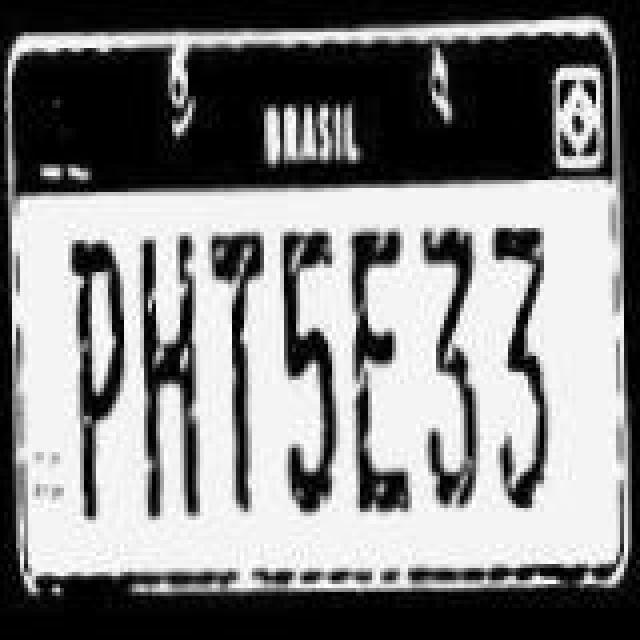3: (490, 226, 550, 510), (418, 228, 478, 508)
5: (278, 232, 338, 516)
E: (348, 224, 412, 512)
H: (138, 234, 202, 522)
P: (66, 240, 130, 520)
T: (210, 234, 270, 518)
